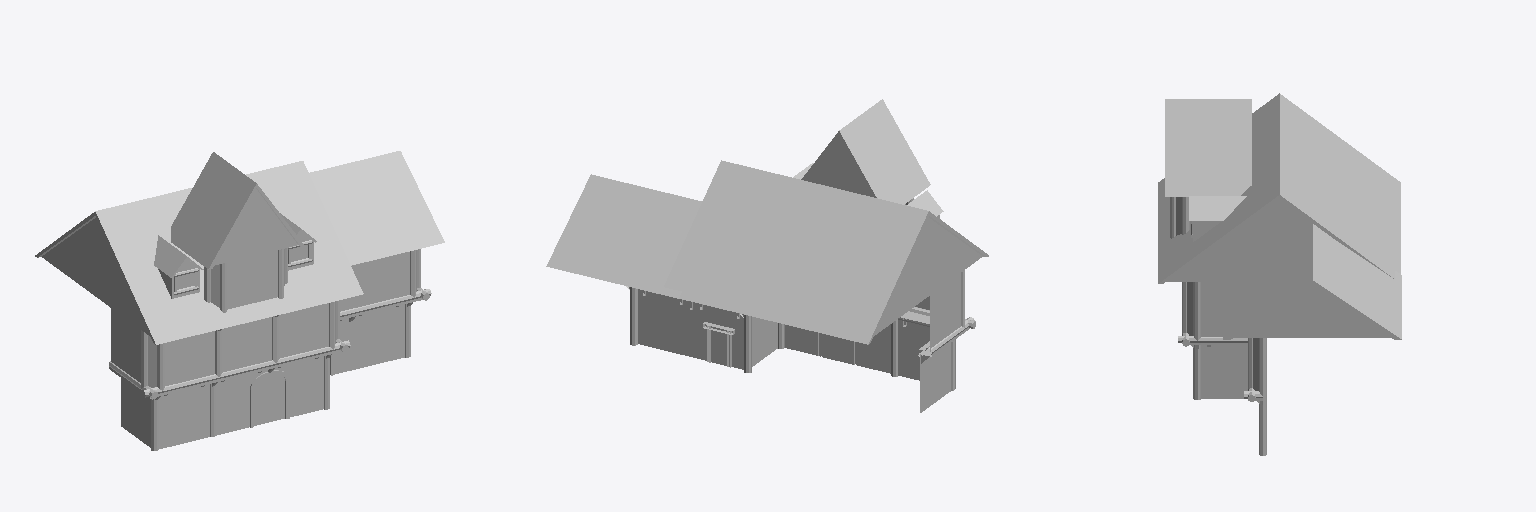
File: ModularMediavalHouse1Mat.obj
The picture shows the model from 3 angles: view 1: azimuth 30°, elevation 25°; view 2: azimuth 150°, elevation 25°; view 3: azimuth 270°, elevation 25°; orthographic projection.
Parts seen in each view (by area): view 1: Plane.008; view 2: Plane.008; view 3: Plane.008.
Part boxes in pixels (x1,y1,x2,y2): Plane.008: (35,151,444,450); Plane.008: (546,99,988,412); Plane.008: (1158,93,1401,455).
Size of the model in its own units: 2.26 by 1.73 by 1.48.